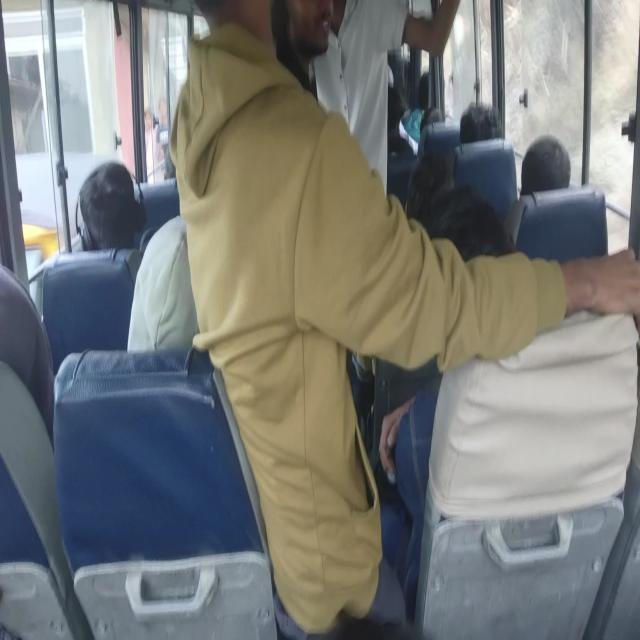person: (194, 15, 341, 382), (323, 0, 398, 111), (130, 238, 193, 332), (431, 191, 505, 266), (0, 273, 32, 422), (77, 173, 135, 241), (407, 160, 458, 223), (522, 138, 575, 196), (469, 100, 511, 154), (162, 140, 196, 176), (421, 110, 446, 139)
